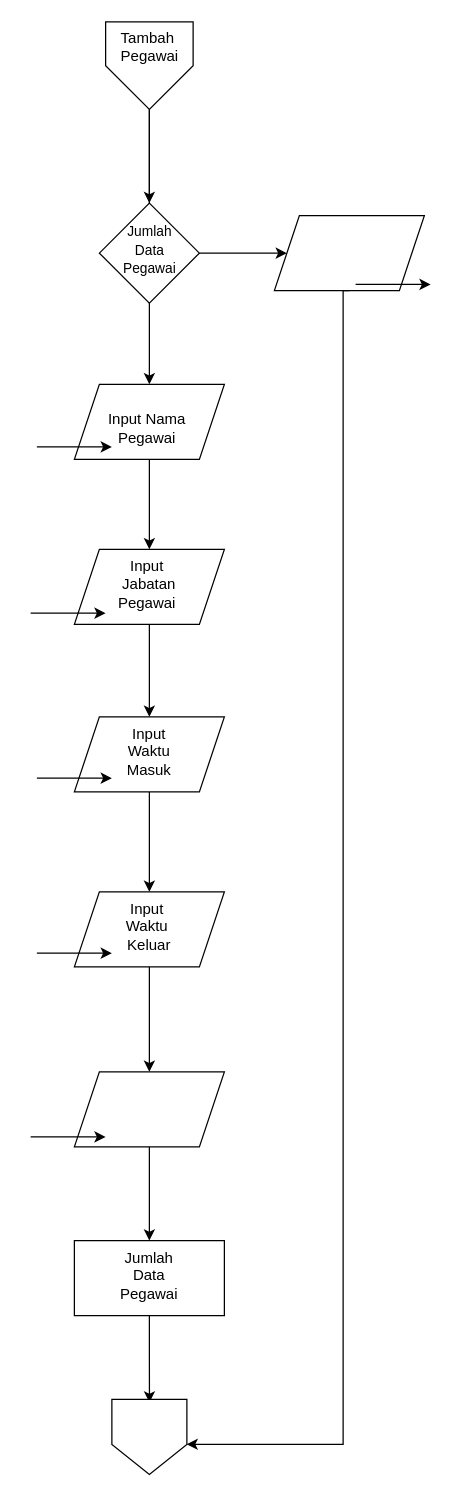
The diagram is 463 pixels wide and 1496 high, and some of its shapes have lost their labels. Each missing label, with the centre of its shape:
Input Hasil Kerja: pixel 148 1109
Kapasitas Data Pegawai Penuh: pixel 348 252
Menu Admin: pixel 149 1436
